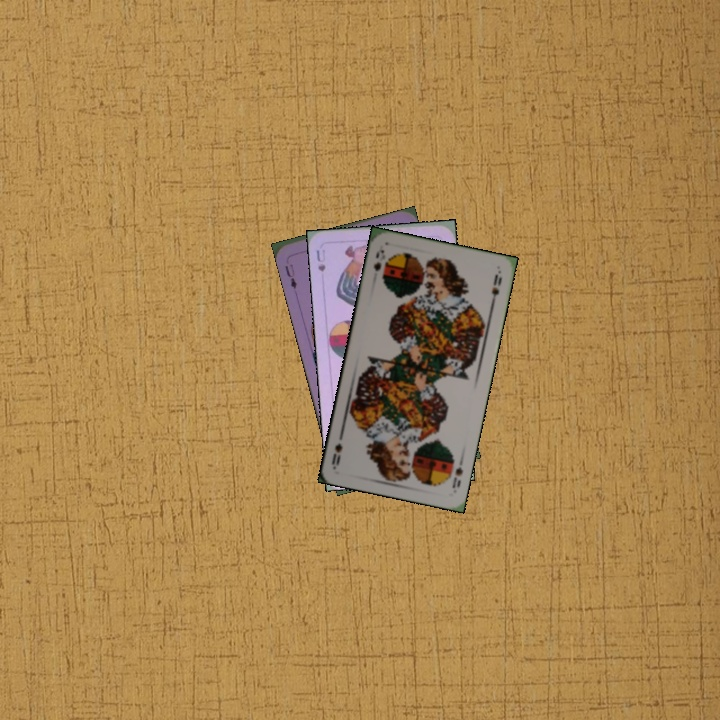EU: (281, 260, 299, 291)
SO: (448, 454, 466, 491), (369, 246, 387, 274)
SU: (313, 245, 328, 274)
